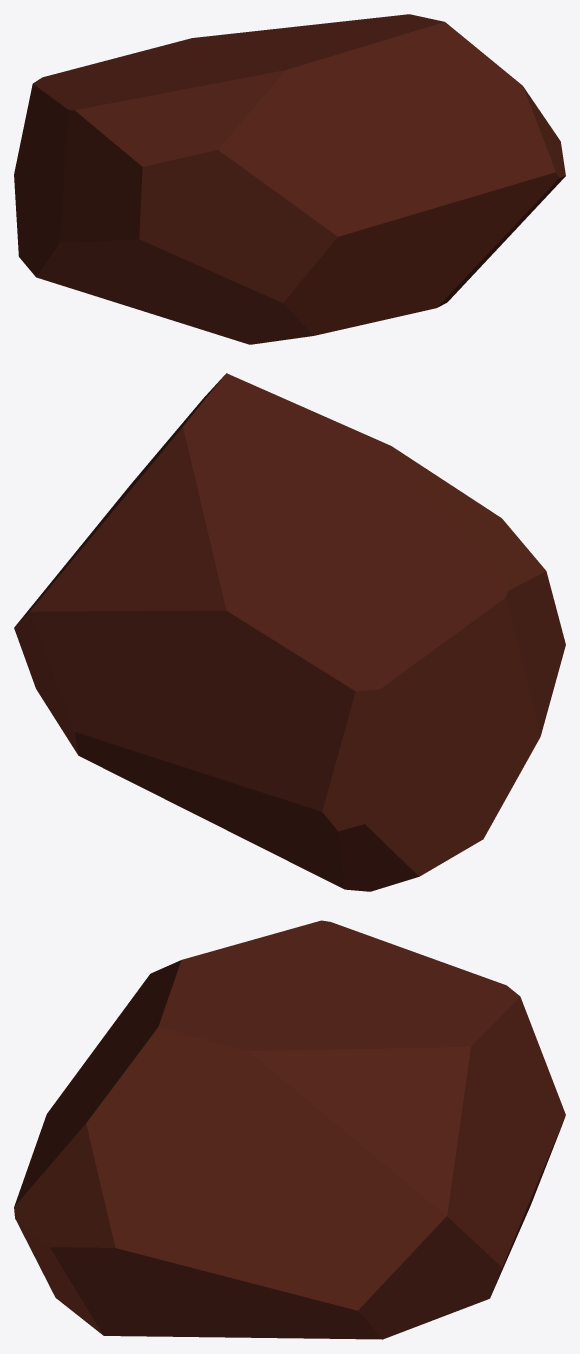
The model's file is Mesh_Hikari_Rock01L.FBX.
The picture shows the model from 3 angles, top to bottom: view 1: azimuth 30°, elevation 25°; view 2: azimuth 150°, elevation 25°; view 3: azimuth 270°, elevation 25°; orthographic projection. The views are drawn at different scales.
Visible parts, largest first — view 1: Rock01; view 2: Rock01; view 3: Rock01.
Boxes of the visible parts, x1=… form: Rock01: x1=14, y1=14, x2=565, y2=344; Rock01: x1=14, y1=373, x2=565, y2=891; Rock01: x1=14, y1=920, x2=565, y2=1339.
Size of the model in its own units: 16.53 by 10.56 by 15.03.
